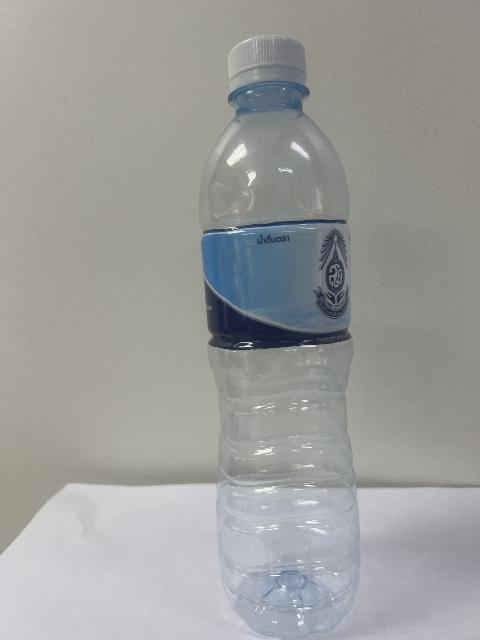bottle: (200, 36, 359, 638)
